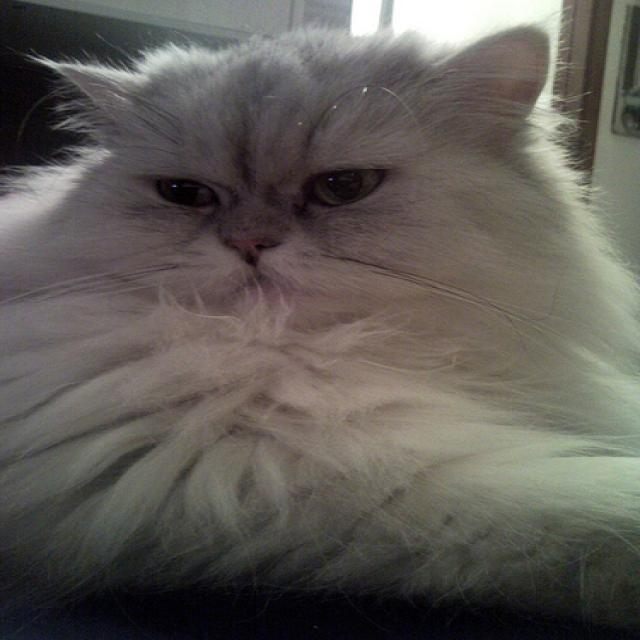Persian: (41, 23, 548, 324)
